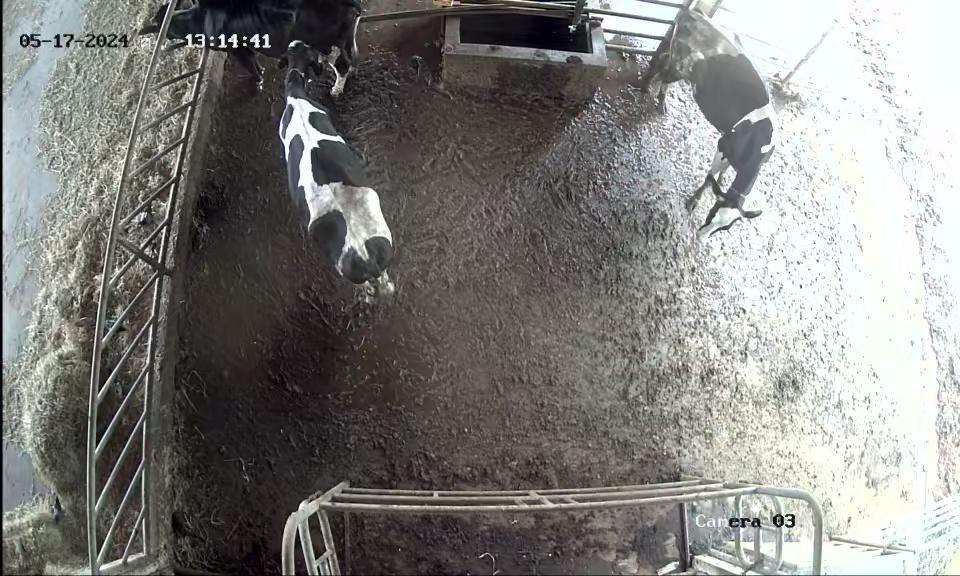eat: (116, 0, 216, 57)
stand: (261, 36, 407, 306), (653, 8, 782, 253)
